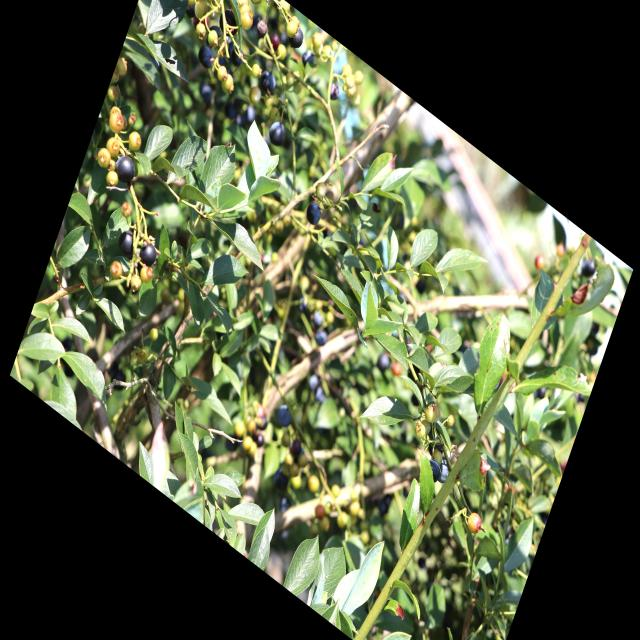blueberry: (216, 3, 243, 44), (112, 148, 139, 187), (264, 115, 290, 154), (114, 224, 140, 261), (302, 197, 326, 231), (256, 63, 280, 97), (432, 452, 454, 488), (194, 40, 217, 73), (137, 237, 159, 270), (426, 432, 447, 461), (287, 23, 306, 54), (299, 45, 318, 74), (423, 457, 442, 485), (228, 42, 246, 71), (264, 29, 282, 55), (376, 349, 392, 375)
blueberry-halfripe: (464, 509, 484, 540)
blueberry-unripe: (106, 106, 126, 138), (422, 398, 442, 428), (283, 12, 302, 42), (237, 6, 256, 35), (125, 126, 144, 154), (103, 132, 122, 160), (410, 417, 429, 444), (107, 256, 126, 283), (95, 142, 112, 170), (247, 82, 264, 109), (220, 71, 237, 97), (138, 260, 154, 286), (117, 198, 134, 222), (192, 0, 209, 23), (114, 54, 130, 78), (104, 167, 120, 190), (310, 28, 325, 52), (417, 414, 434, 435), (128, 272, 144, 294), (105, 82, 120, 105), (275, 0, 292, 19), (206, 26, 220, 49), (193, 19, 207, 40), (249, 61, 262, 80), (217, 62, 229, 82), (445, 411, 457, 430), (233, 0, 251, 12), (248, 0, 266, 8)
